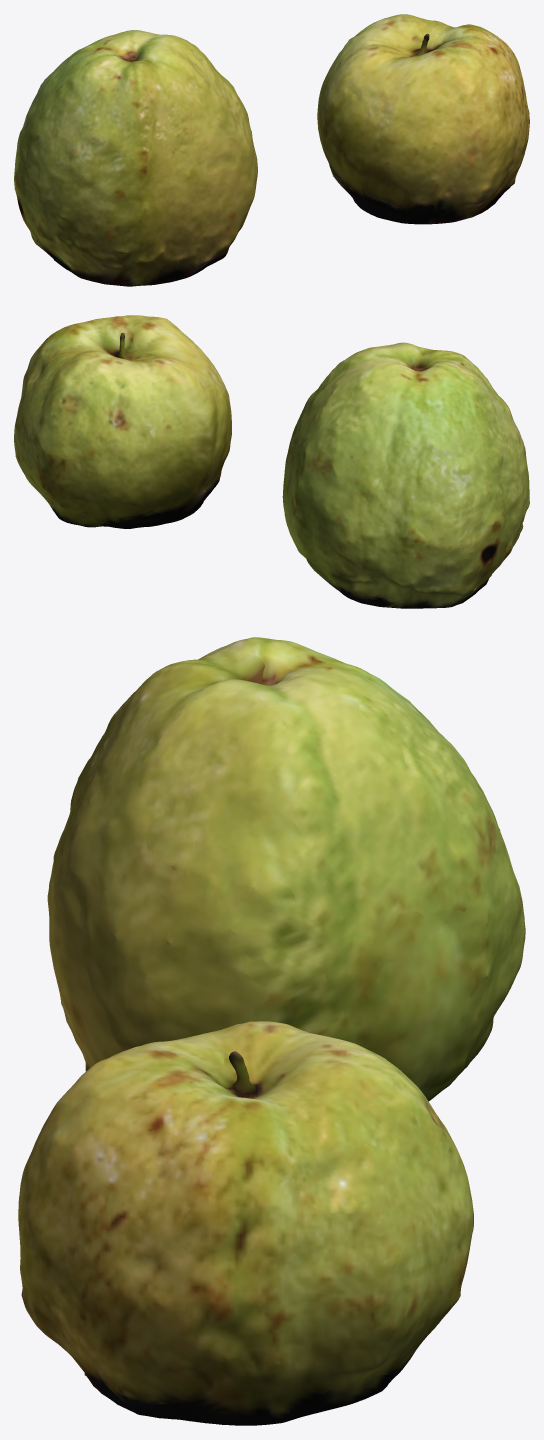
File: guava.glb
The picture shows the model from 3 angles, top to bottom: view 1: azimuth 30°, elevation 25°; view 2: azimuth 150°, elevation 25°; view 3: azimuth 270°, elevation 25°; orthographic projection. The views are drawn at different scales.
Parts seen in each view (by area): view 1: mesh_main_0; view 2: mesh_main_0; view 3: mesh_main_0.
Part boxes in pixels (<box>): mesh_main_0: <box>14,14,529,286</box>; mesh_main_0: <box>14,315,529,608</box>; mesh_main_0: <box>18,637,525,1425</box>.
Bounding box in the file's own units: 0.2556 × 0.1071 × 0.1174.
1 material, 1 textured.
